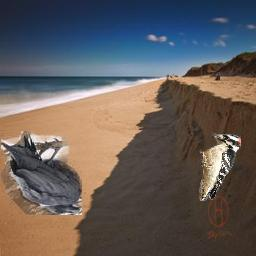Crow: (2, 131, 83, 215)
Woodpecker: (199, 133, 241, 202)
